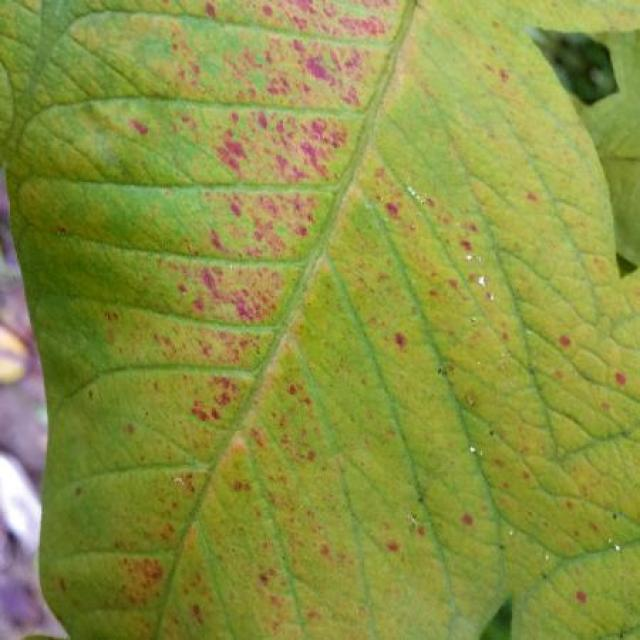Red Rust: (0, 2, 640, 640)
